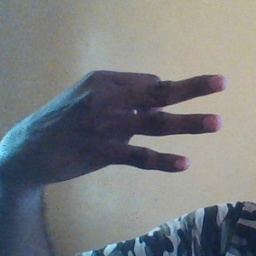K: (28, 68, 228, 181)
